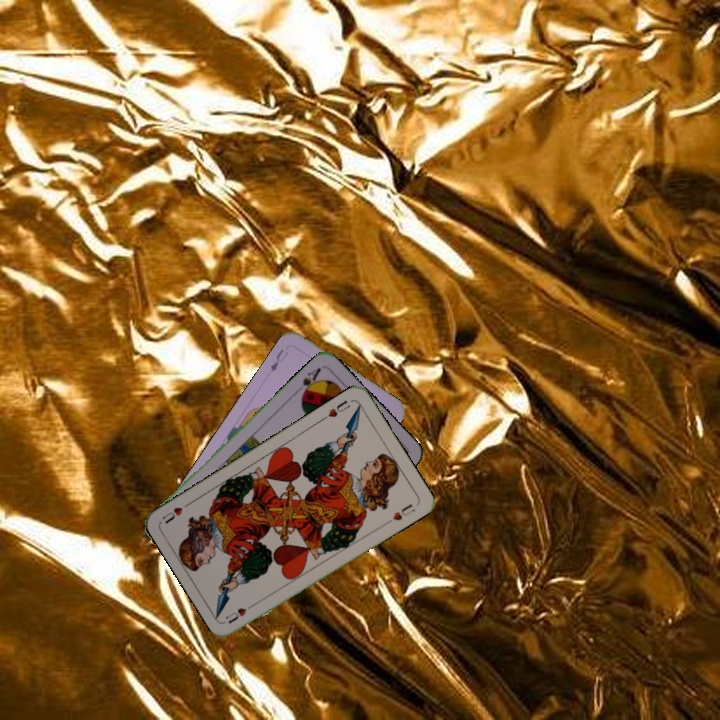EU: (266, 345, 291, 375)
HU: (221, 598, 259, 626), (318, 396, 353, 423)
SA: (293, 364, 324, 399)
